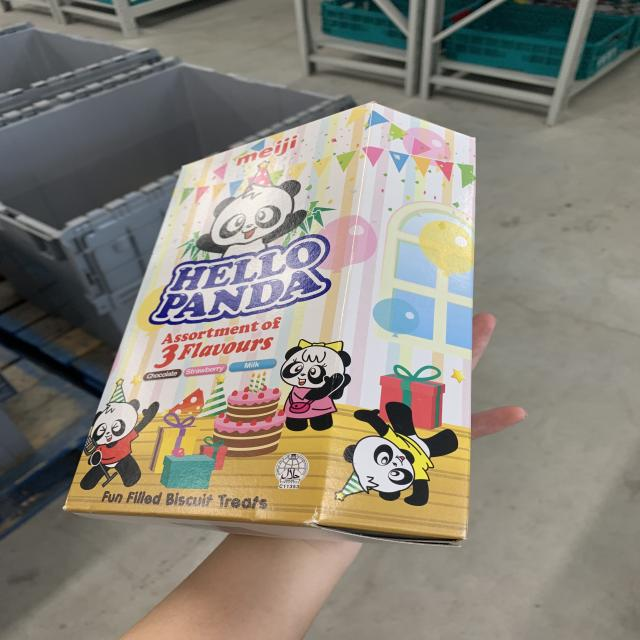object_name: (71, 117, 460, 516)
